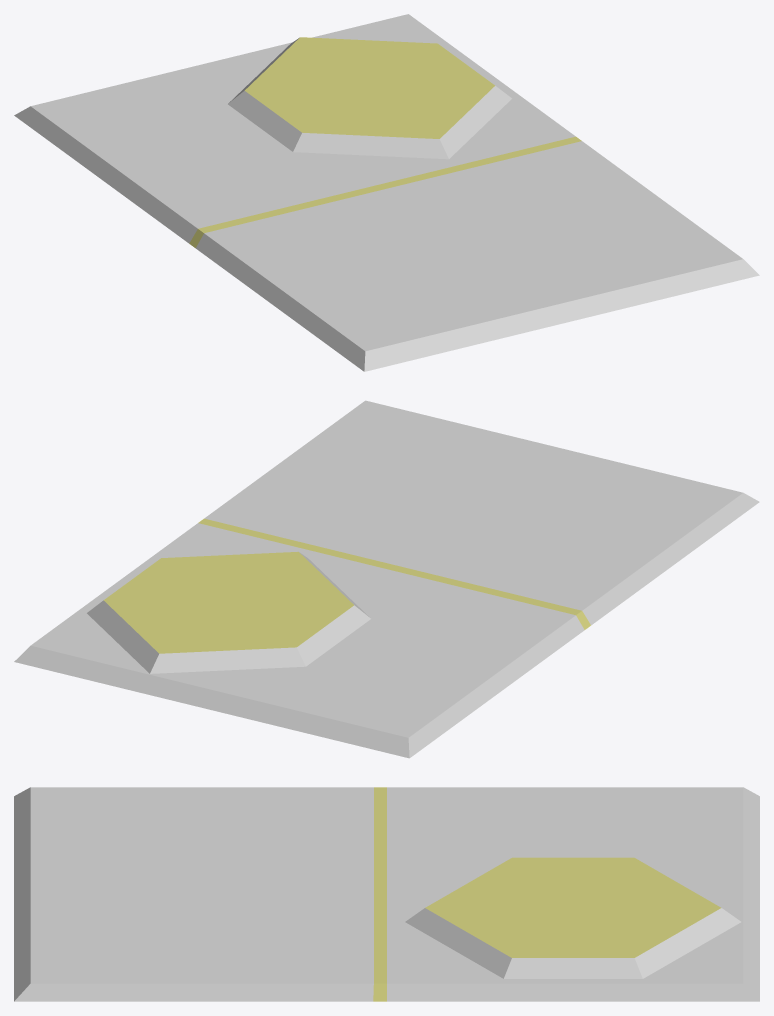
File: card.fbx
The picture shows the model from 3 angles, top to bottom: view 1: azimuth 30°, elevation 25°; view 2: azimuth 150°, elevation 25°; view 3: azimuth 270°, elevation 25°; orthographic projection. The views are drawn at different scales.
Parts seen in each view (by area): view 1: Plane; view 2: Plane; view 3: Plane.
Part boxes in pixels (<box>): Plane: <box>14,14,759,371</box>; Plane: <box>14,400,759,758</box>; Plane: <box>14,787,759,1001</box>.
Bounding box in the file's own units: 260 × 19.01 × 400.
